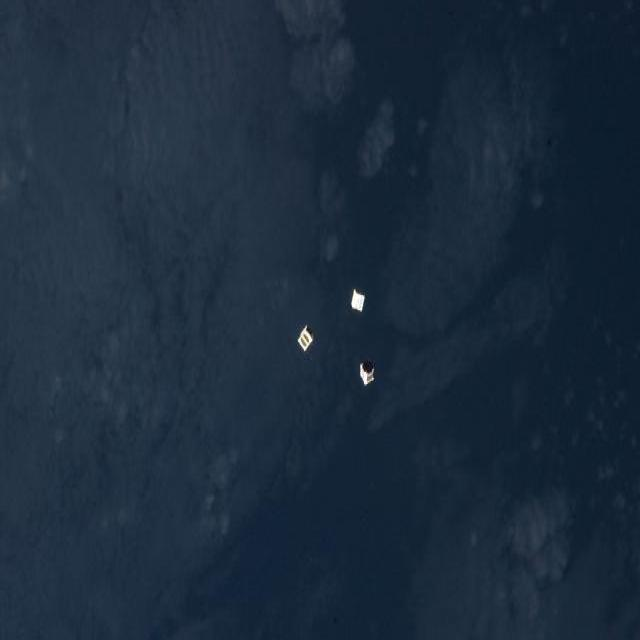satellite: (298, 326, 314, 351), (360, 361, 375, 386), (351, 290, 365, 312)
